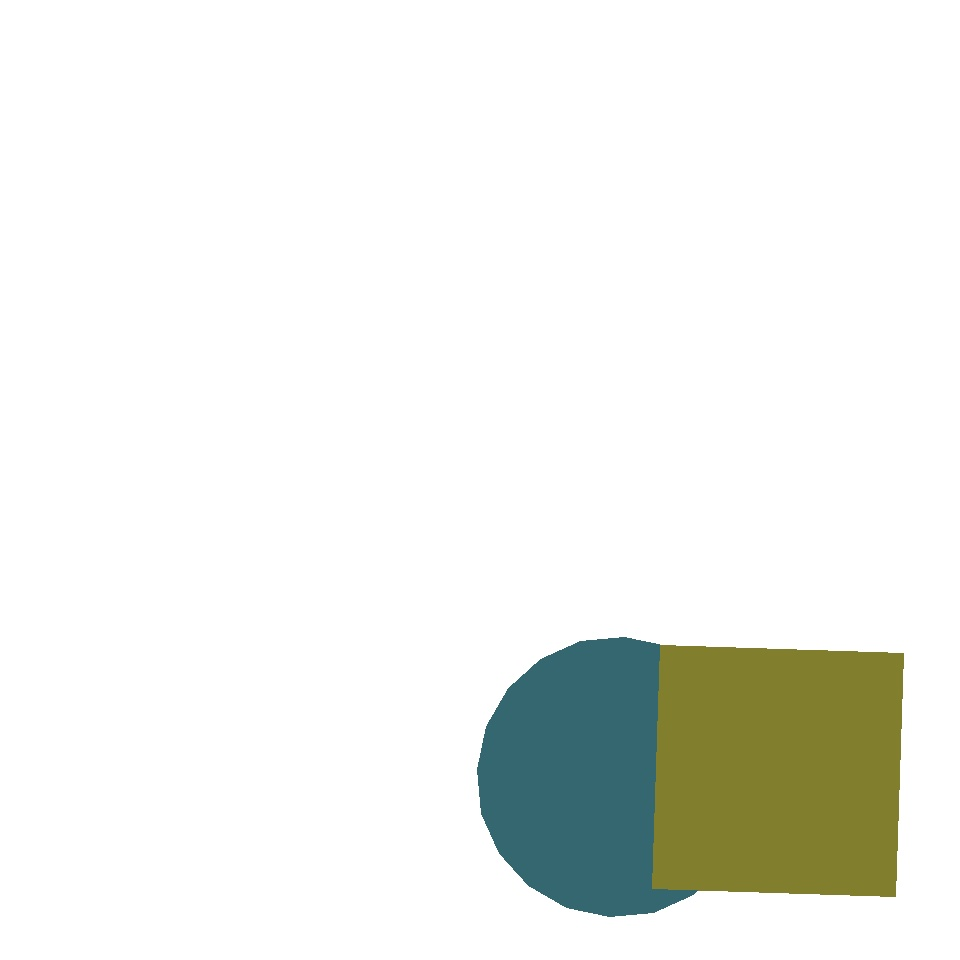circle: (189, 42, 275, 120)
square: (652, 646, 904, 896), (358, 138, 454, 234)
triangle: (307, 192, 610, 496), (478, 638, 756, 916)
